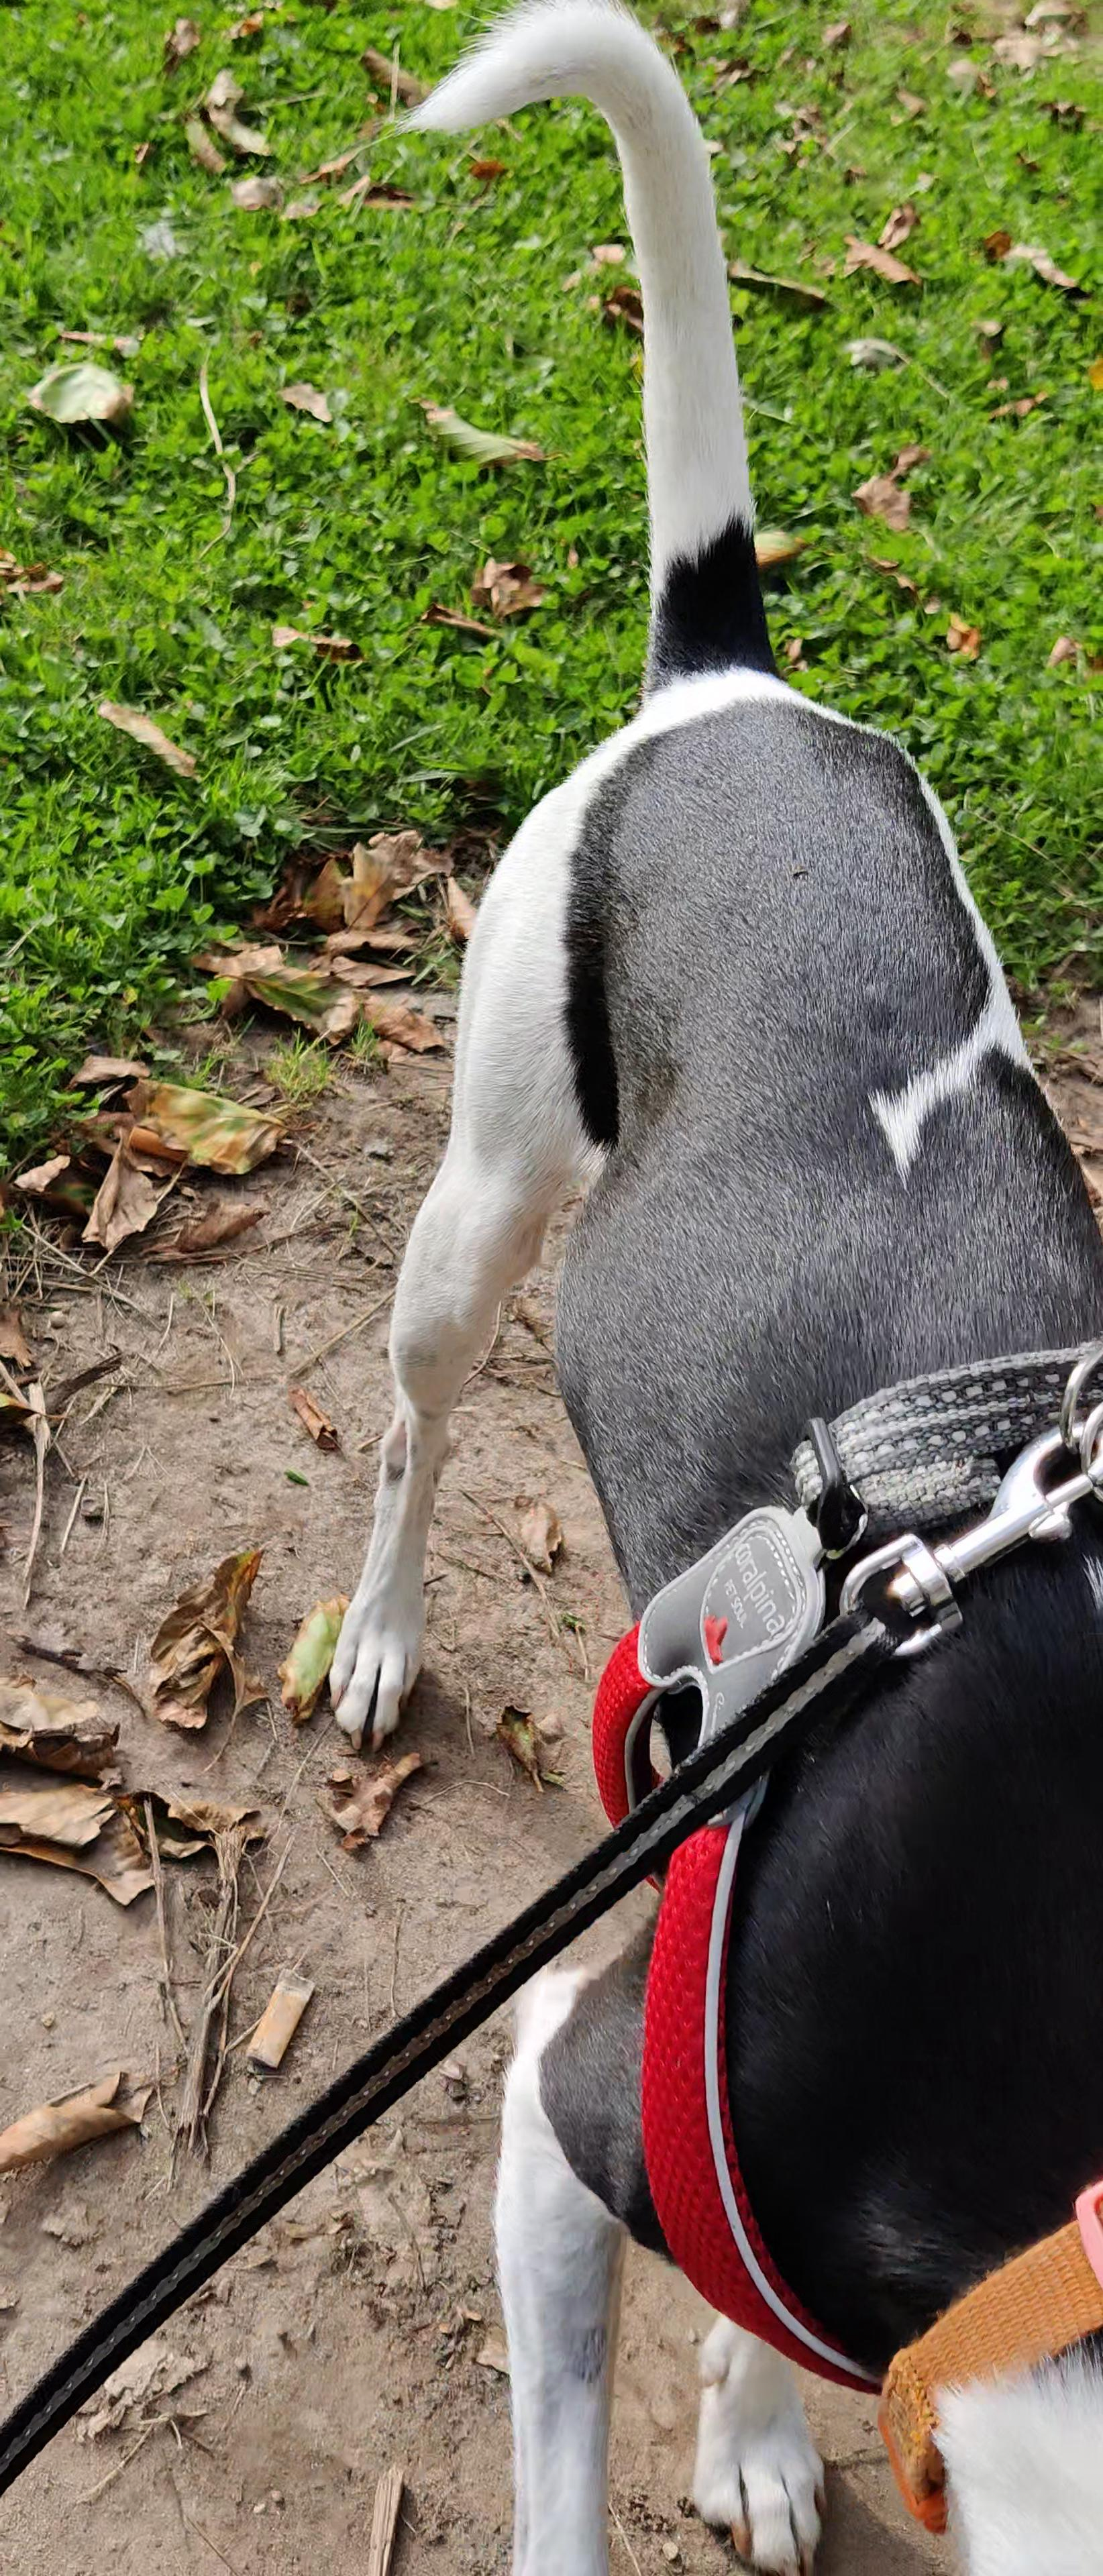Dog: (248, 0, 1103, 2576)
